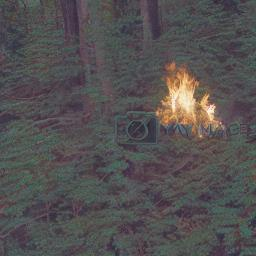Small fire: (153, 61, 229, 140)
